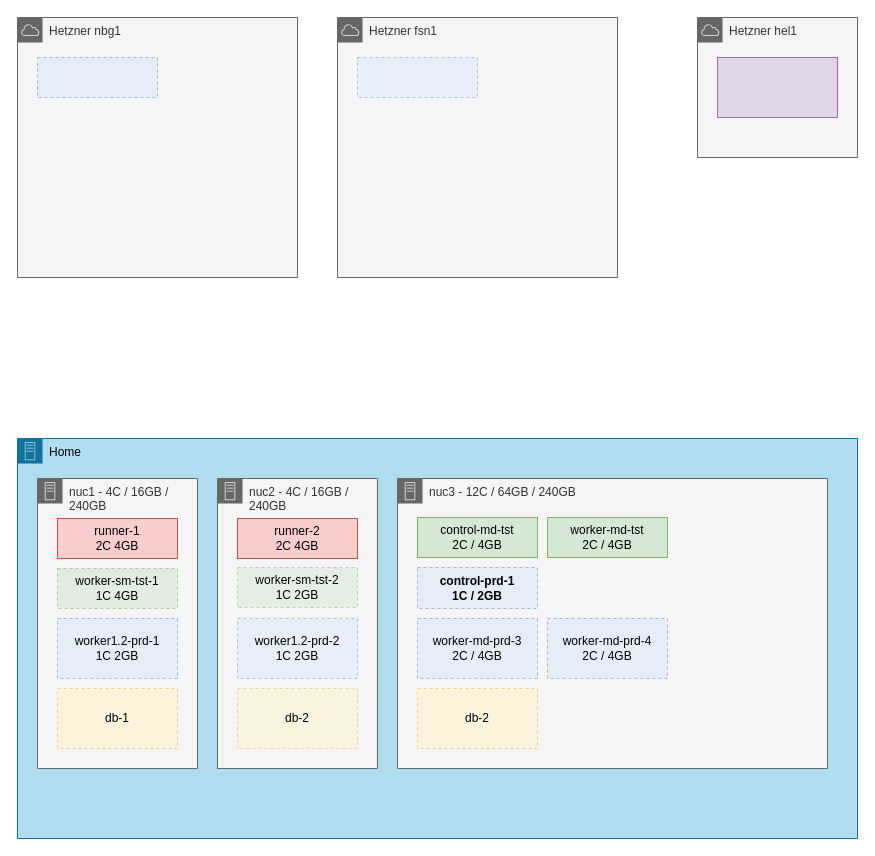
The diagram is 875 pixels wide and 856 high, and some of its shapes have lost their labels. The centre of each missing label's shape, as x and y in pixels:
control-prd-2 1C 2GB: the point at 97,77
control-prd-3 1C 2GB: the point at 417,77
monitor: the point at 777,87
